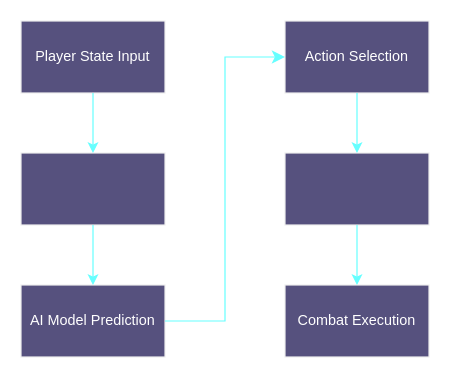
The diagram is 450 pixels wide and 378 high, and some of its shapes have lost their labels. Each missing label, with the centre of its shape:
"Animation Trigger" belongs at point 356,188.
"Distance / HP Analysis" belongs at point 92,188.
